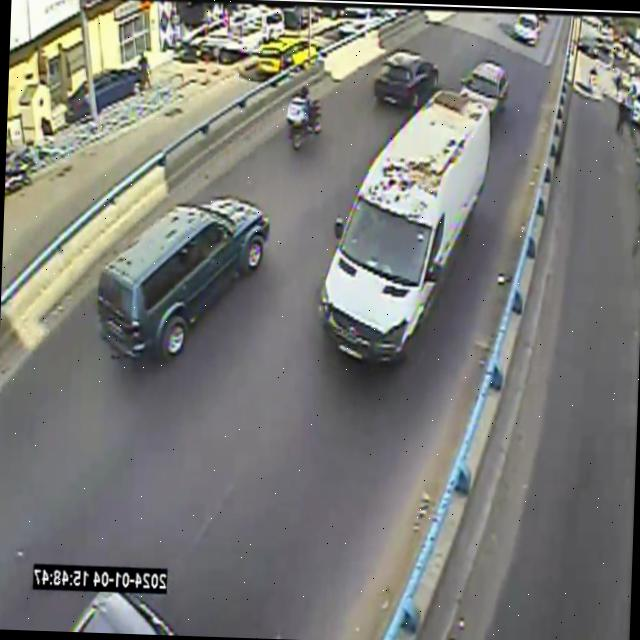car: (319, 89, 491, 360), (97, 196, 269, 360), (374, 51, 439, 109), (461, 61, 508, 115), (256, 36, 319, 75), (512, 13, 540, 45)
